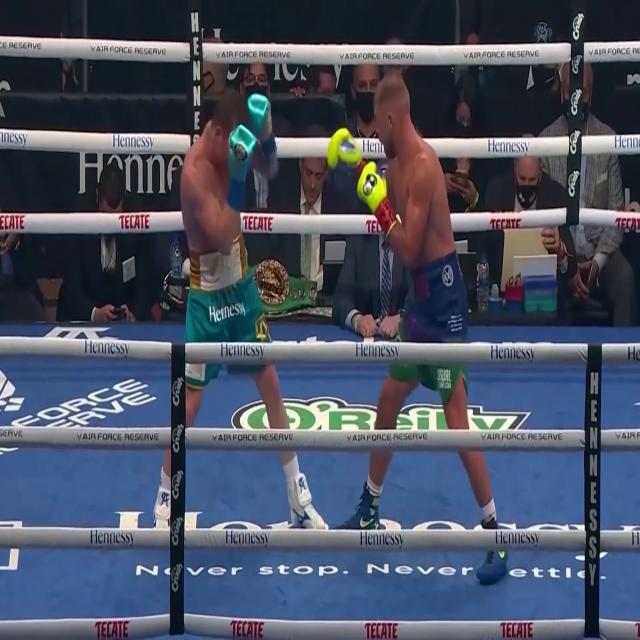boxer_1: (375, 73, 454, 263)
boxer_2: (181, 88, 246, 256)
gloves_1: (327, 127, 395, 233)
gloves_2: (227, 94, 277, 210)
